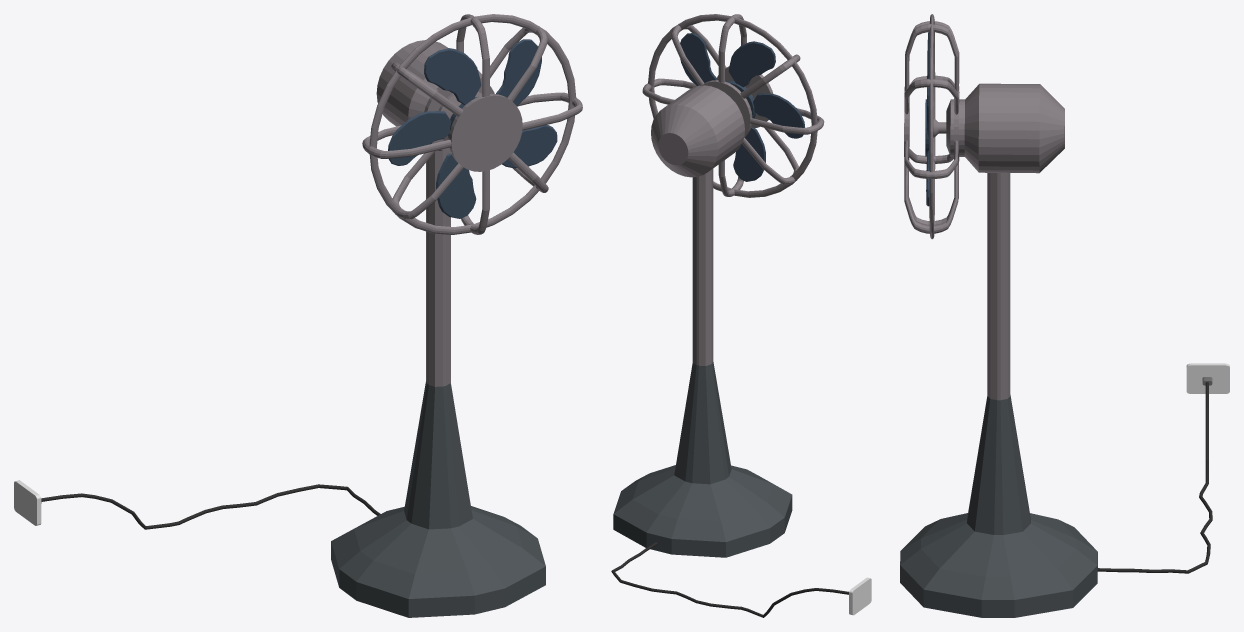
The model's file is E-fan.fbx.
3 views of the same model, side by side, from view 1: azimuth 30°, elevation 25°; view 2: azimuth 150°, elevation 25°; view 3: azimuth 270°, elevation 25° (orthographic). The views are drawn at different scales.
Visible parts, largest first — view 1: E-fanSTAND, E-fanCOVER, E-fan, Cylinder, Plane; view 2: E-fanSTAND, E-fanCOVER, Cylinder, E-fan, Plane; view 3: E-fanSTAND, Cylinder, E-fanCOVER, Plane, E-fan.
Part boxes in pixels (x1=…): E-fanSTAND: x1=331, y1=150, x2=545, y2=617; E-fanCOVER: x1=362, y1=14, x2=582, y2=234; E-fan: x1=388, y1=39, x2=557, y2=218; Cylinder: x1=376, y1=40, x2=482, y2=150; Plane: x1=14, y1=480, x2=380, y2=529; E-fanSTAND: x1=613, y1=169, x2=792, y2=557; E-fanCOVER: x1=642, y1=14, x2=824, y2=197; Cylinder: x1=651, y1=85, x2=744, y2=177; E-fan: x1=680, y1=33, x2=805, y2=181; Plane: x1=611, y1=542, x2=871, y2=617; E-fanSTAND: x1=900, y1=173, x2=1097, y2=617; Cylinder: x1=933, y1=83, x2=1064, y2=173; E-fanCOVER: x1=904, y1=14, x2=959, y2=239; Plane: x1=1097, y1=363, x2=1229, y2=573; E-fan: x1=925, y1=32, x2=929, y2=206.
Bounding box in the file's own units: 343 × 469 × 254.
